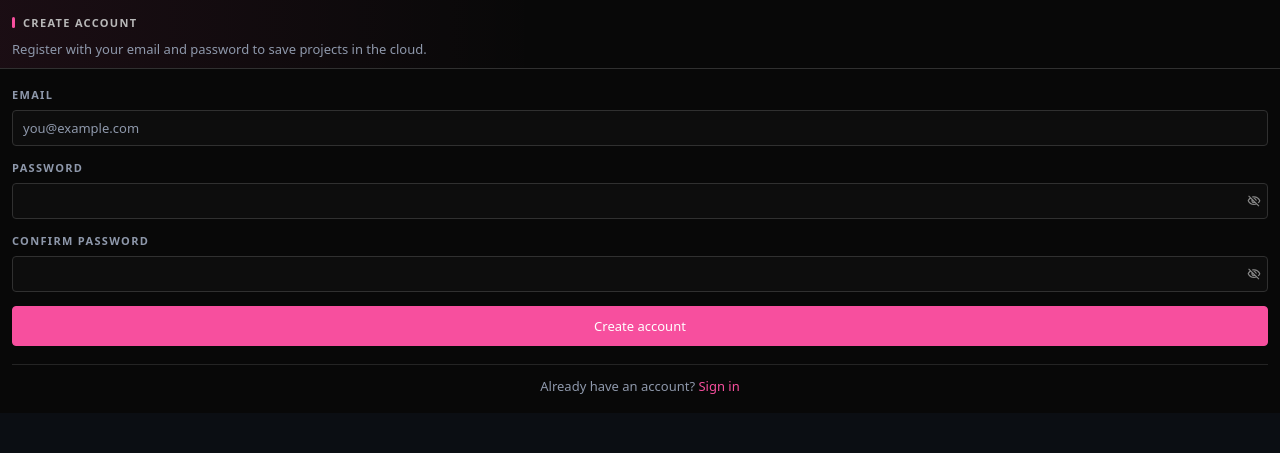
Scenario: RegisterPage › shows a client-side error when passwords do not match
Type "user@example.com" into the field with placeholder "you@example.com". click: (640, 128)
box: [12,110,1268,146]
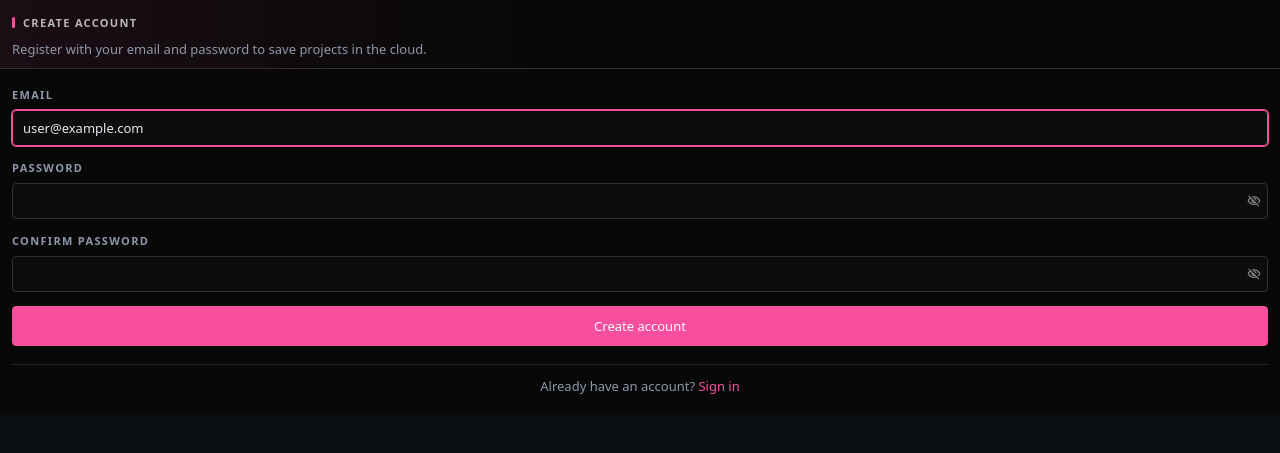
Type "password123" into the password field labelled "Password". click: (640, 200)
box: [12,182,1268,218]
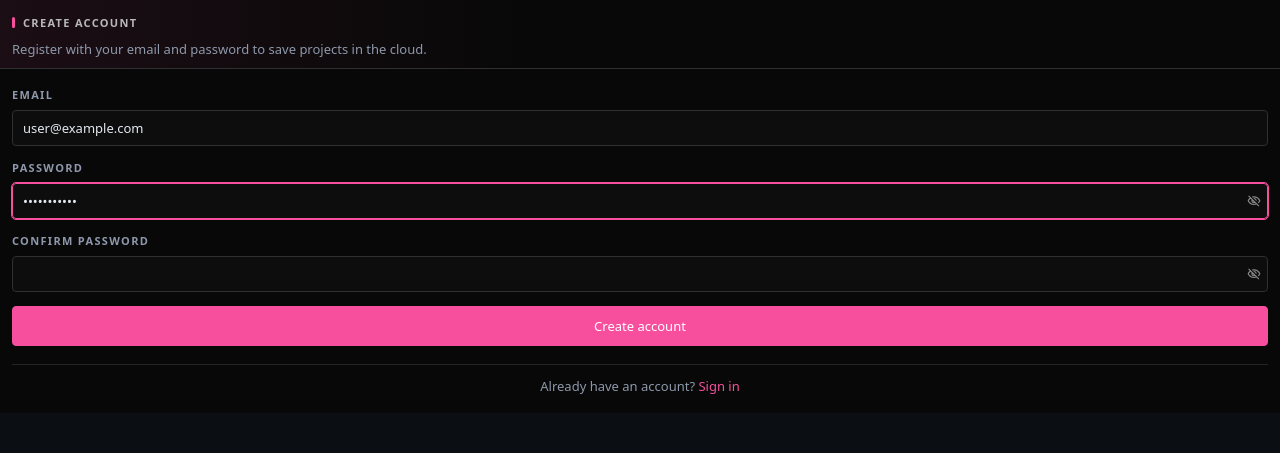
Type "different123" into the password field labelled "Confirm password". click: (640, 274)
box: [12,256,1268,292]
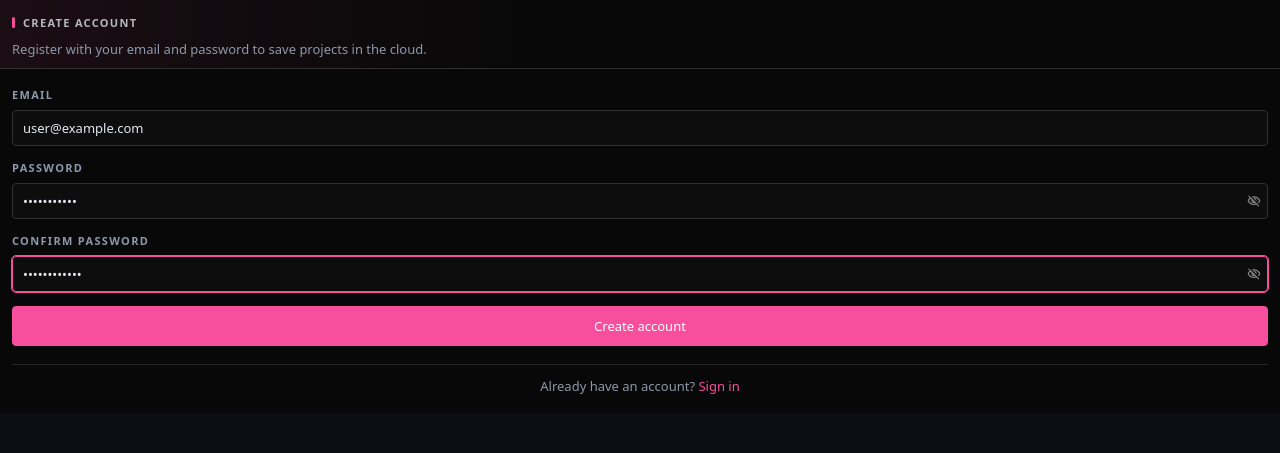
Click the button "Create account". click: click(640, 326)
box: [12,306,1268,346]
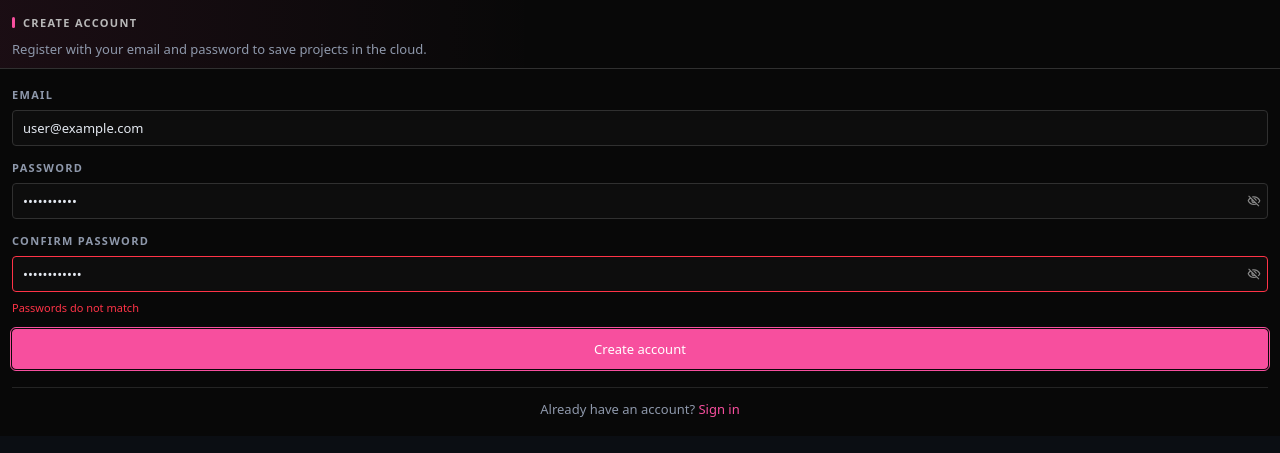
Check: the text "Passwords do not match" is shown, box [12,300,139,314]
